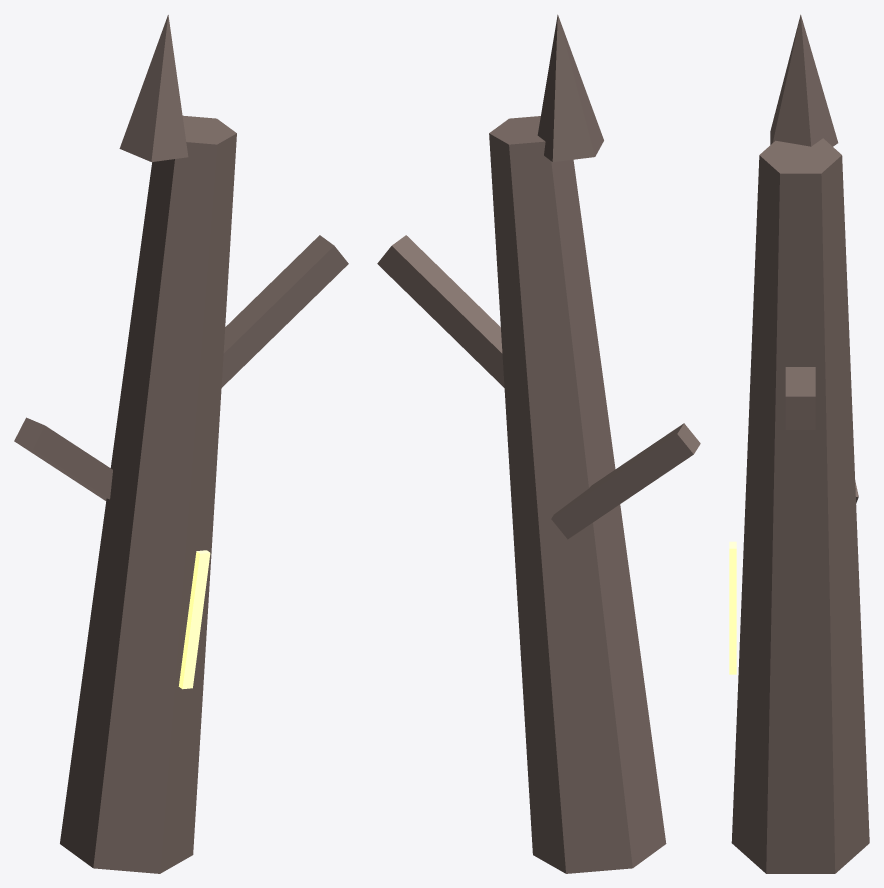
File: ENV_Ember_BurntTree_1.fbx
The picture shows the model from 3 angles, left to right: view 1: azimuth 30°, elevation 25°; view 2: azimuth 150°, elevation 25°; view 3: azimuth 270°, elevation 25°; orthographic projection. The views are drawn at different scales.
Visible parts, largest first — view 1: ENV_Ember_BurntTree_1; view 2: ENV_Ember_BurntTree_1; view 3: ENV_Ember_BurntTree_1.
Boxes of the visible parts, <box> form: ENV_Ember_BurntTree_1: <box>14,15,348,873</box>; ENV_Ember_BurntTree_1: <box>377,14,700,873</box>; ENV_Ember_BurntTree_1: <box>729,14,869,873</box>.
Size of the model in its own units: 1.51 by 3.76 by 0.56.
